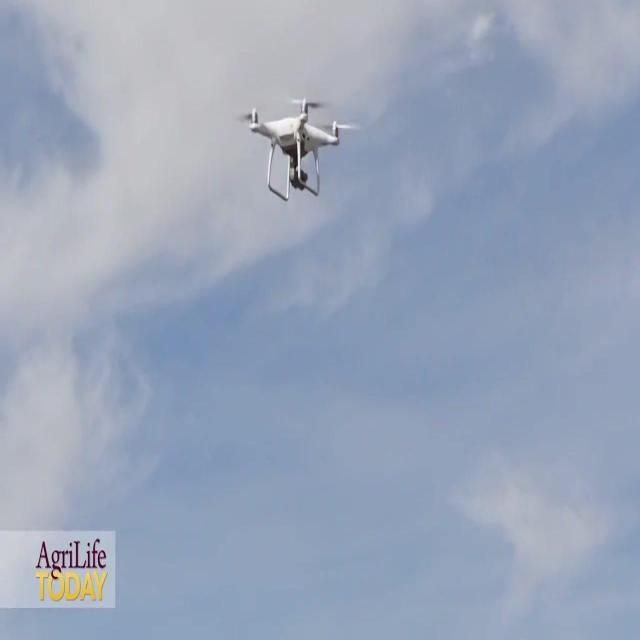drone: (244, 96, 350, 206)
